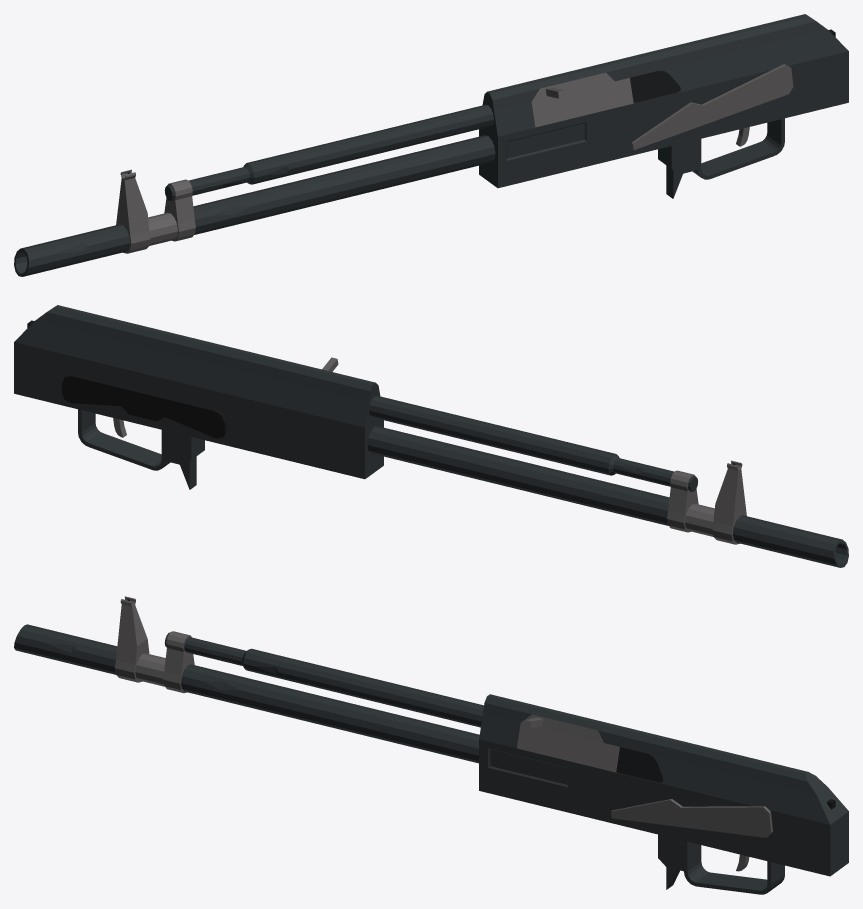
The model's file is Assault_Rifle_5,45_Clean.gltf.
3 renders of one model, top to bottom at view 1: azimuth 30°, elevation 25°; view 2: azimuth 150°, elevation 25°; view 3: azimuth 330°, elevation 25°, orthographic.
Visible parts, largest first — view 1: Assault_Rifle_5,45_Clean, Fuse_Clean, Gate_Clean; view 2: Assault_Rifle_5,45_Clean; view 3: Assault_Rifle_5,45_Clean, Fuse_Clean, Gate_Clean.
Boxes of the visible parts, x1=… form: Assault_Rifle_5,45_Clean: x1=14, y1=14, x2=848, y2=276; Fuse_Clean: x1=631, y1=64, x2=793, y2=150; Gate_Clean: x1=531, y1=72, x2=633, y2=127; Assault_Rifle_5,45_Clean: x1=14, y1=305, x2=848, y2=567; Assault_Rifle_5,45_Clean: x1=14, y1=596, x2=848, y2=894; Fuse_Clean: x1=611, y1=799, x2=772, y2=837; Gate_Clean: x1=517, y1=714, x2=619, y2=772.
Bounding box in the file's own units: 0.6746 × 0.123 × 0.0407.
